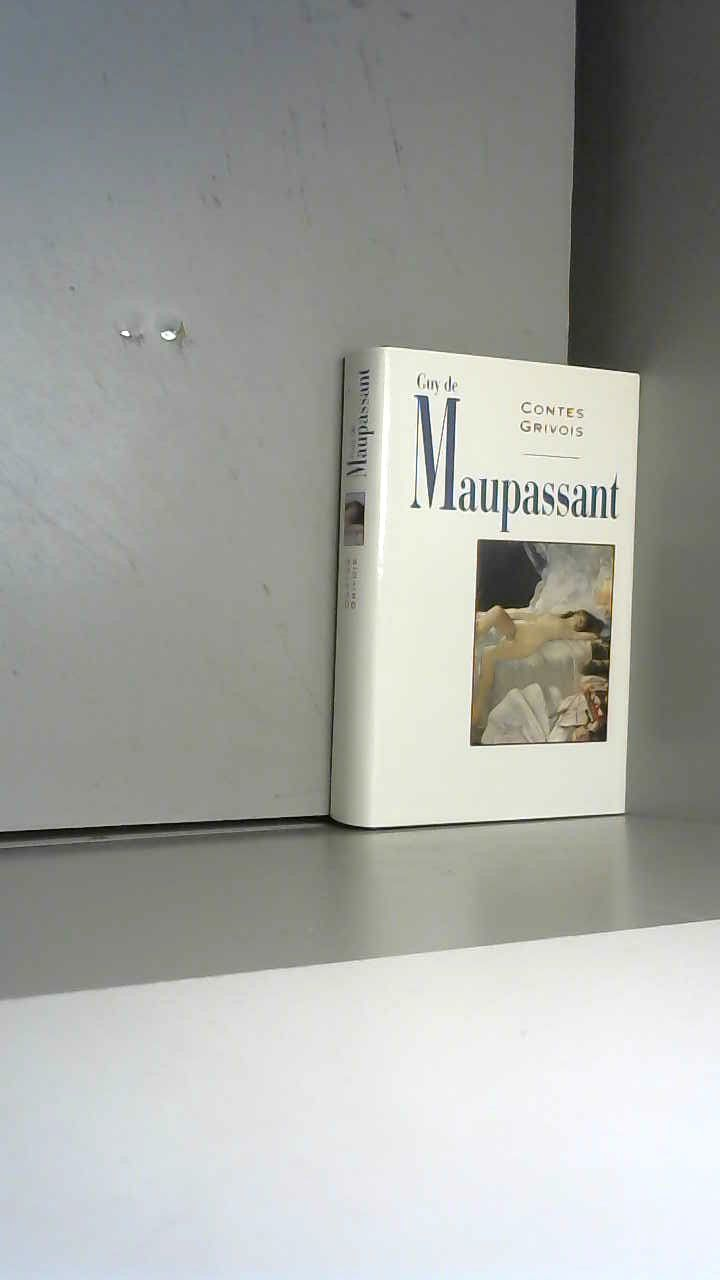book: (300, 320, 720, 942)
